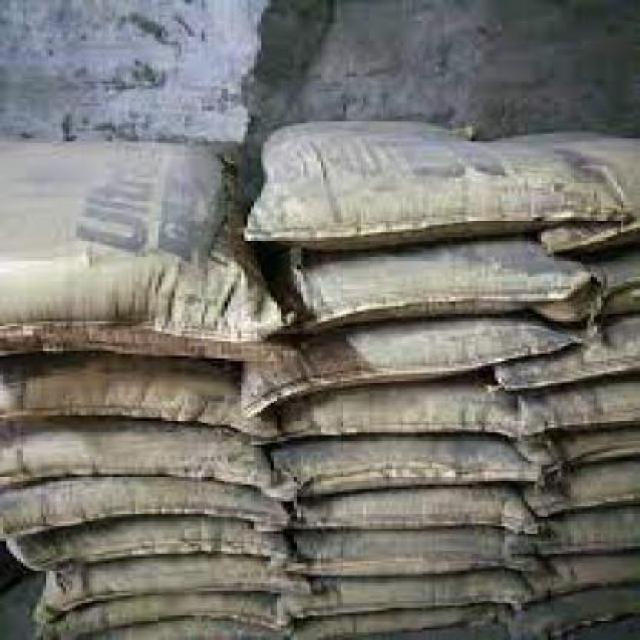gunny_bag: (229, 323, 572, 422), (0, 250, 293, 362), (35, 554, 310, 628), (244, 194, 611, 247), (277, 272, 587, 333), (253, 381, 532, 448), (0, 430, 284, 491), (4, 362, 251, 430), (279, 437, 548, 499), (9, 514, 290, 573), (0, 489, 288, 540), (293, 527, 548, 578), (290, 493, 541, 539), (40, 593, 288, 639), (286, 575, 543, 614), (510, 374, 640, 450), (495, 323, 640, 389), (288, 605, 510, 640), (523, 465, 640, 527), (532, 432, 640, 483), (539, 509, 640, 560), (532, 554, 640, 601), (510, 596, 636, 636), (578, 247, 640, 321)
